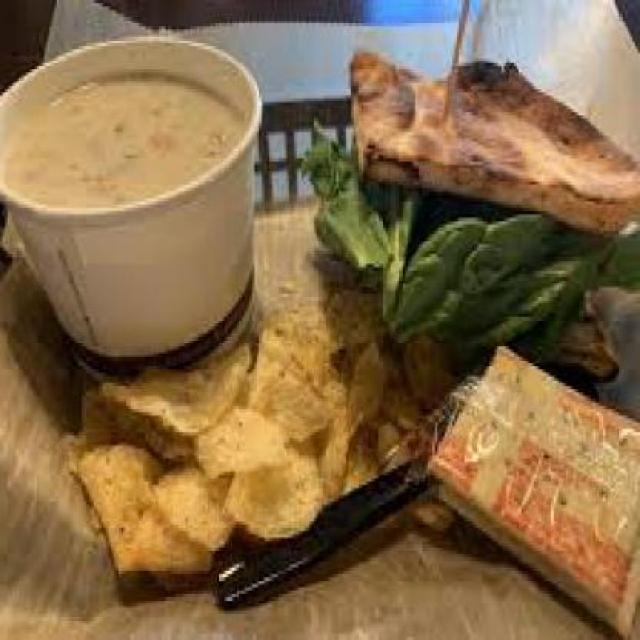clam chowder: (2, 20, 270, 317)
club sandwich: (307, 43, 638, 406)
